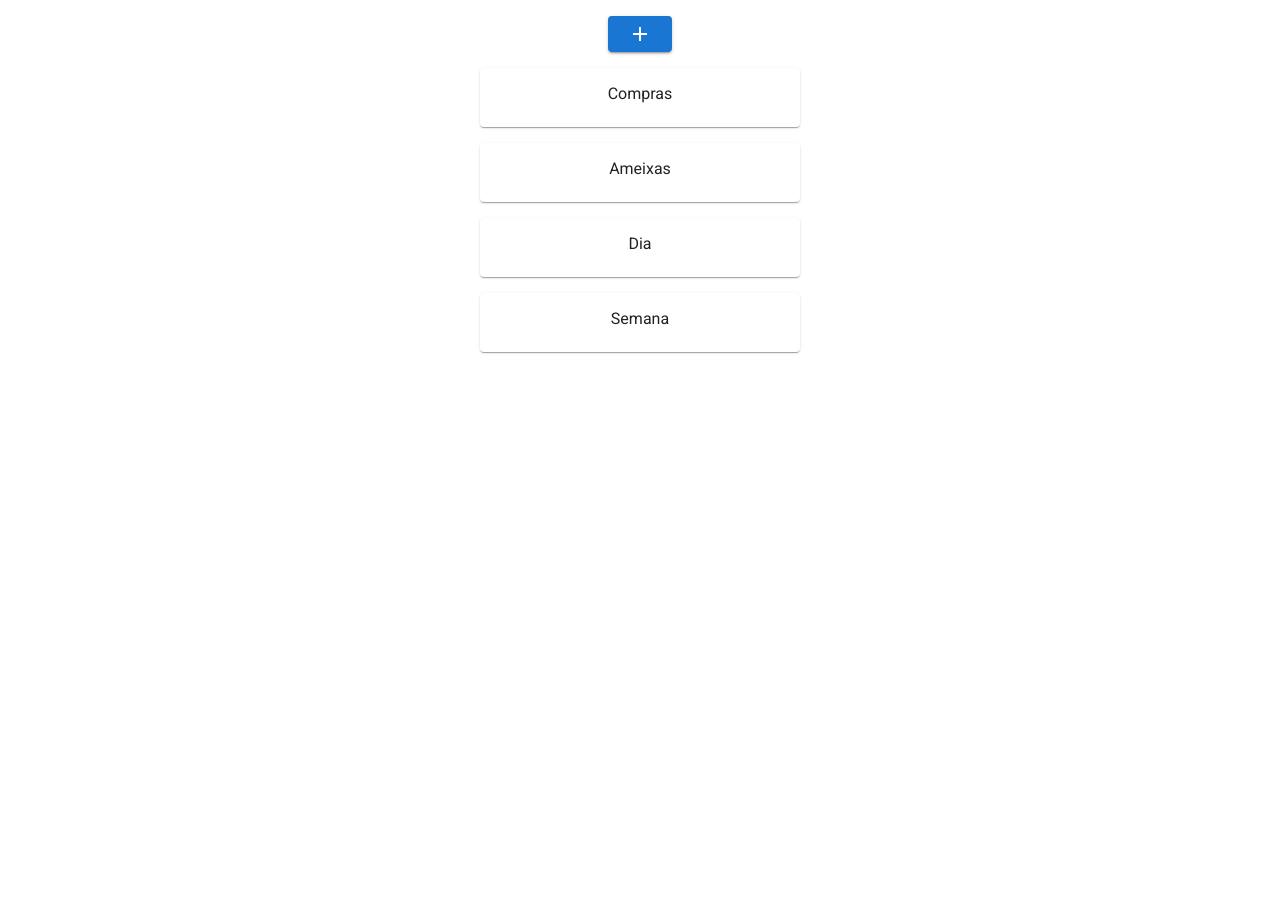
Test case: Home module › should open new list modal
This screenshot has width=1280, height=900.
Click the button with test id "newListBtn" at (640, 34), box left=608, top=16, right=672, bottom=52
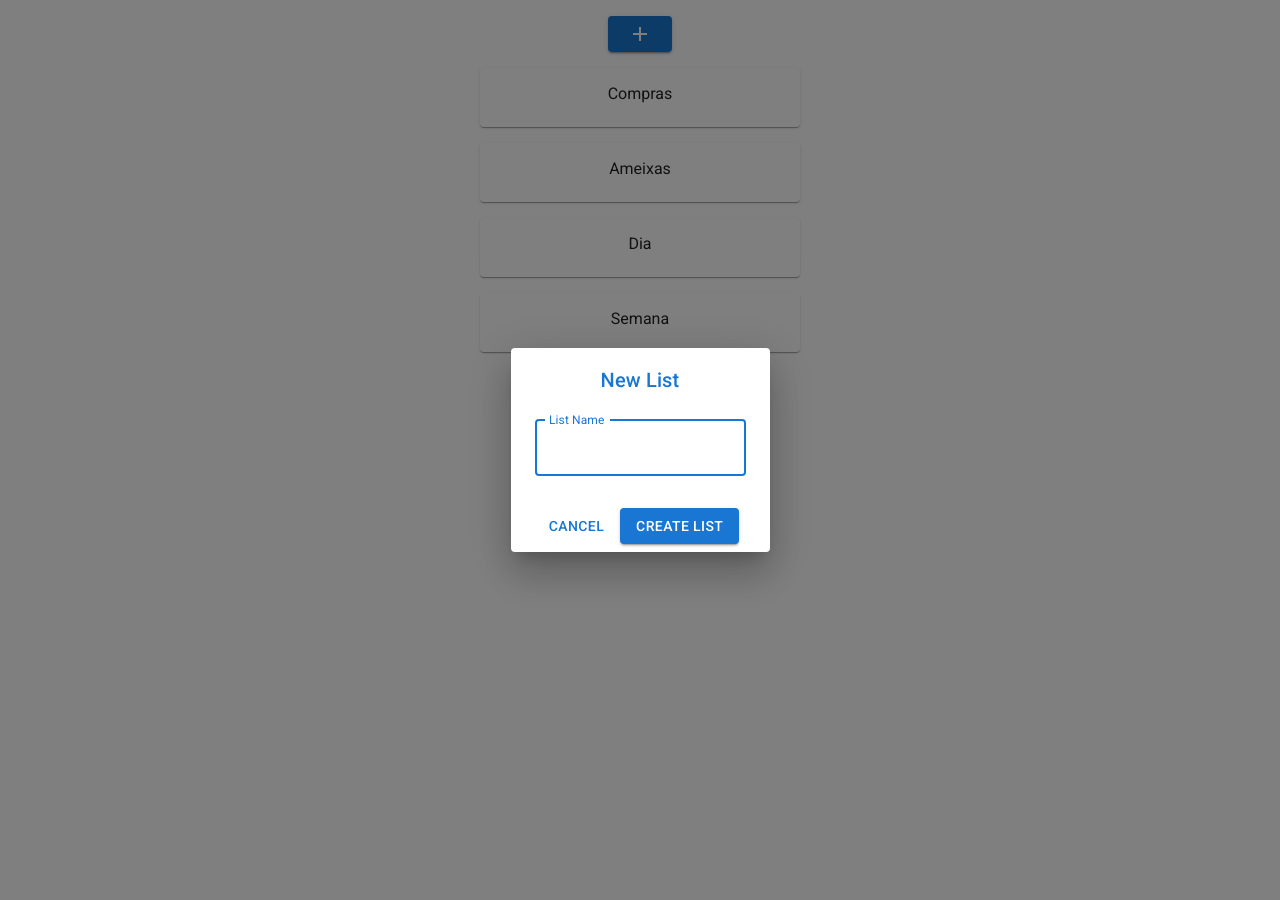
Now the heading "New List" is shown, box left=601, top=368, right=679, bottom=392
